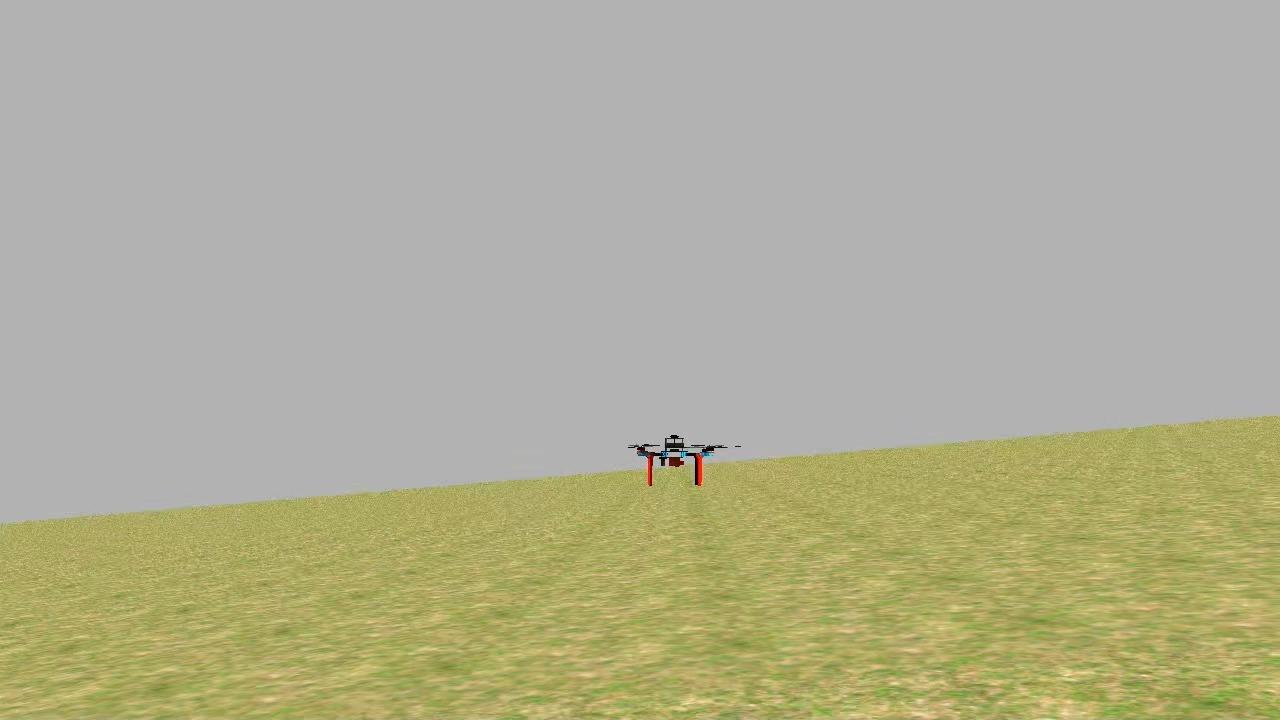UAV: (621, 412, 733, 487)
